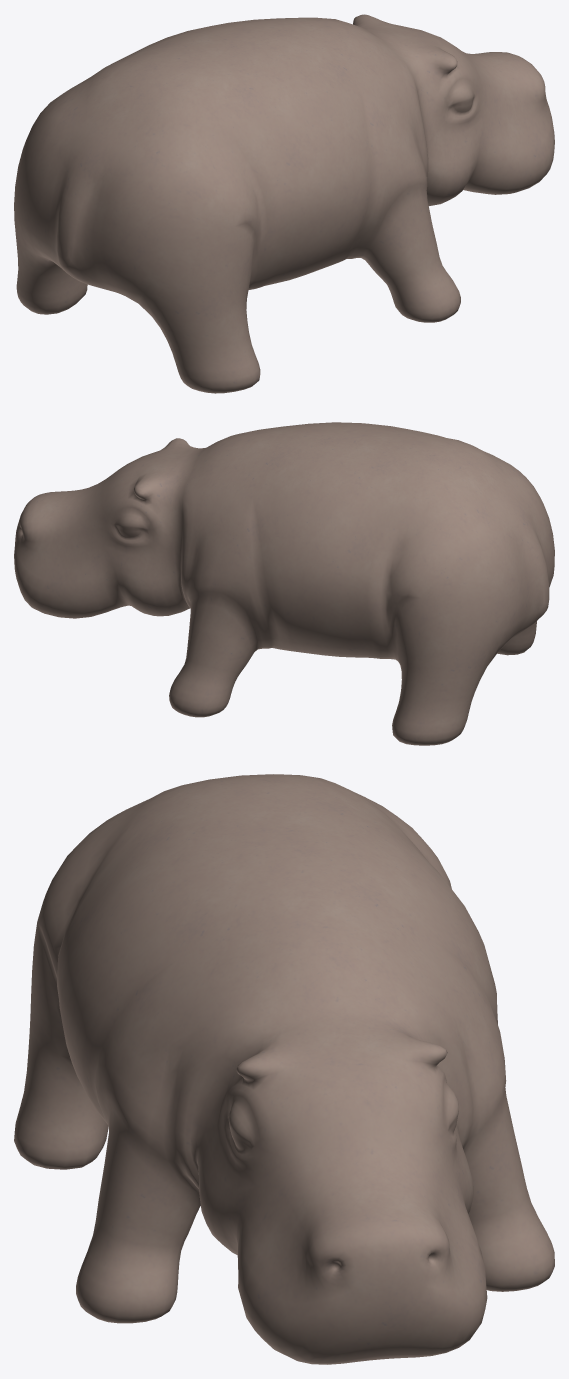
The model's file is leftpiggy.glb.
The picture shows the model from 3 angles, top to bottom: view 1: azimuth 30°, elevation 25°; view 2: azimuth 150°, elevation 25°; view 3: azimuth 270°, elevation 25°; orthographic projection. The views are drawn at different scales.
Visible parts, largest first — view 1: Hippopotamus.002; view 2: Hippopotamus.002; view 3: Hippopotamus.002.
Boxes of the visible parts, box(x1,y1,x2,y2) form: Hippopotamus.002: box(14, 14, 554, 393); Hippopotamus.002: box(14, 422, 554, 745); Hippopotamus.002: box(14, 774, 554, 1364).
Size of the model in its own units: 0.2991 by 0.1439 by 0.1848.
1 material, 1 textured.
